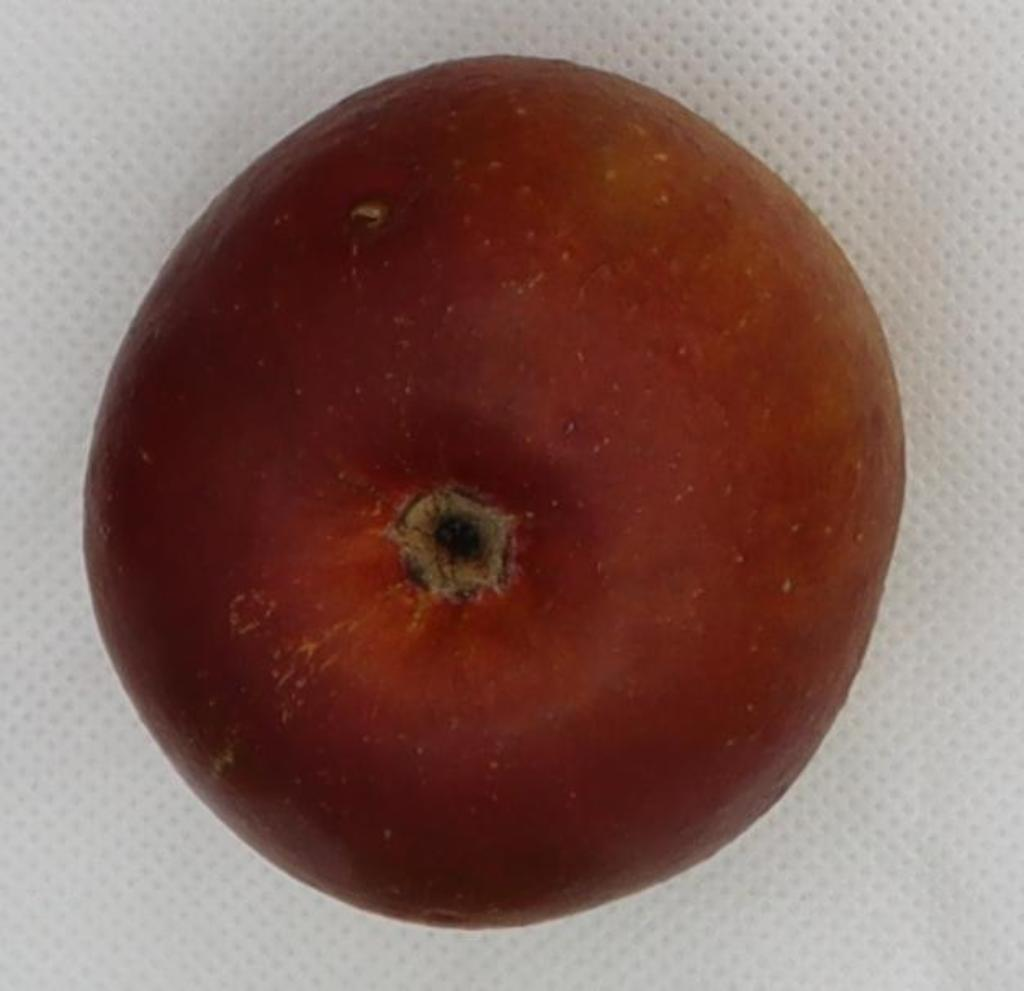apple: (85, 57, 903, 926)
surface_damage: (348, 198, 388, 229)
